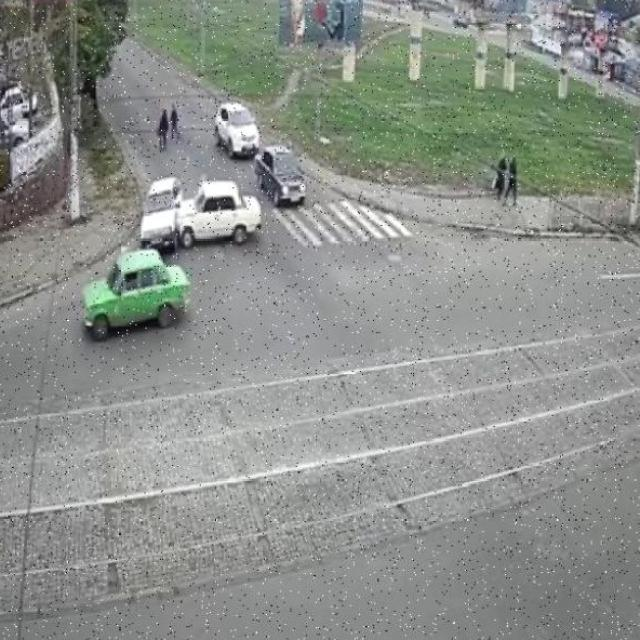accident: (133, 163, 267, 269)
